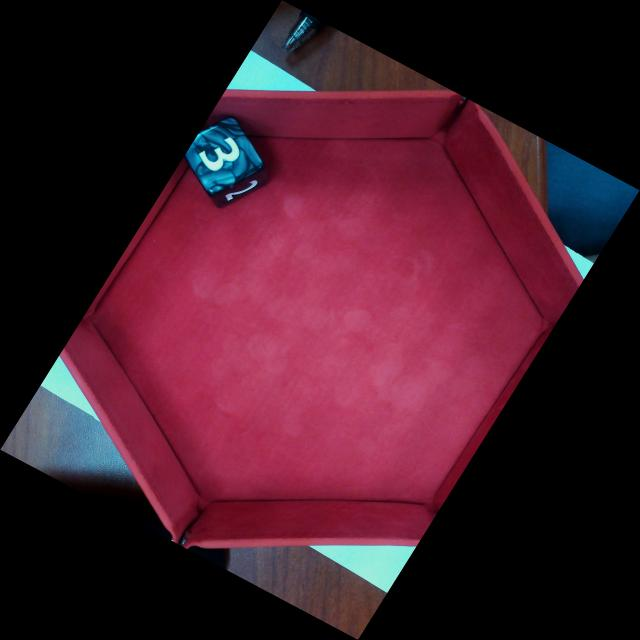dice: (183, 115, 267, 199)
